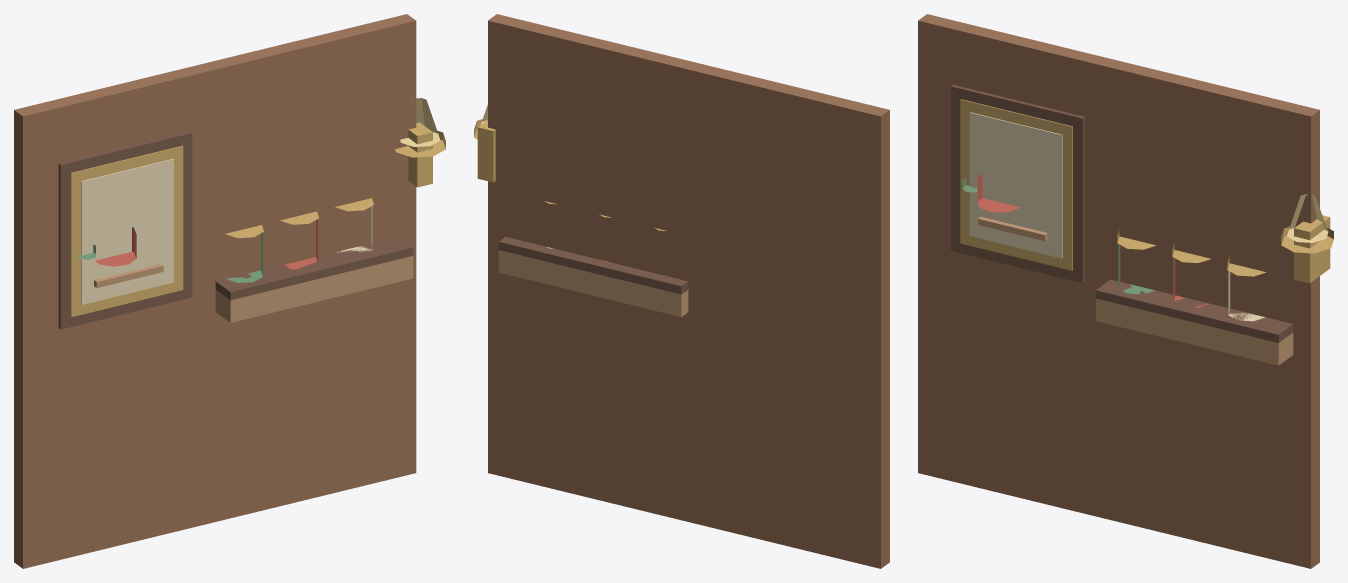
File: wall-dressing-panel.glb
3 renders of one model, left to right at view 1: azimuth 30°, elevation 25°; view 2: azimuth 150°, elevation 25°; view 3: azimuth 330°, elevation 25°, orthographic.
Visible parts, largest first — view 1: wall_dressing_shelf_art_sconce; view 2: wall_dressing_shelf_art_sconce; view 3: wall_dressing_shelf_art_sconce.
Boxes of the visible parts, bbox=[...] form: wall_dressing_shelf_art_sconce: bbox=[14, 14, 445, 568]; wall_dressing_shelf_art_sconce: bbox=[474, 14, 889, 568]; wall_dressing_shelf_art_sconce: bbox=[918, 14, 1333, 568].
Bounding box in the file's own units: 2.12 × 2.2 × 0.29.
